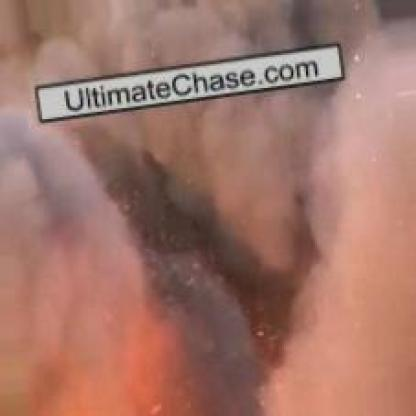smoke: (9, 4, 399, 395)
